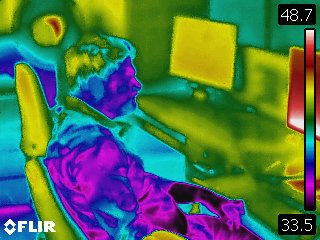human: (44, 32, 249, 240)
